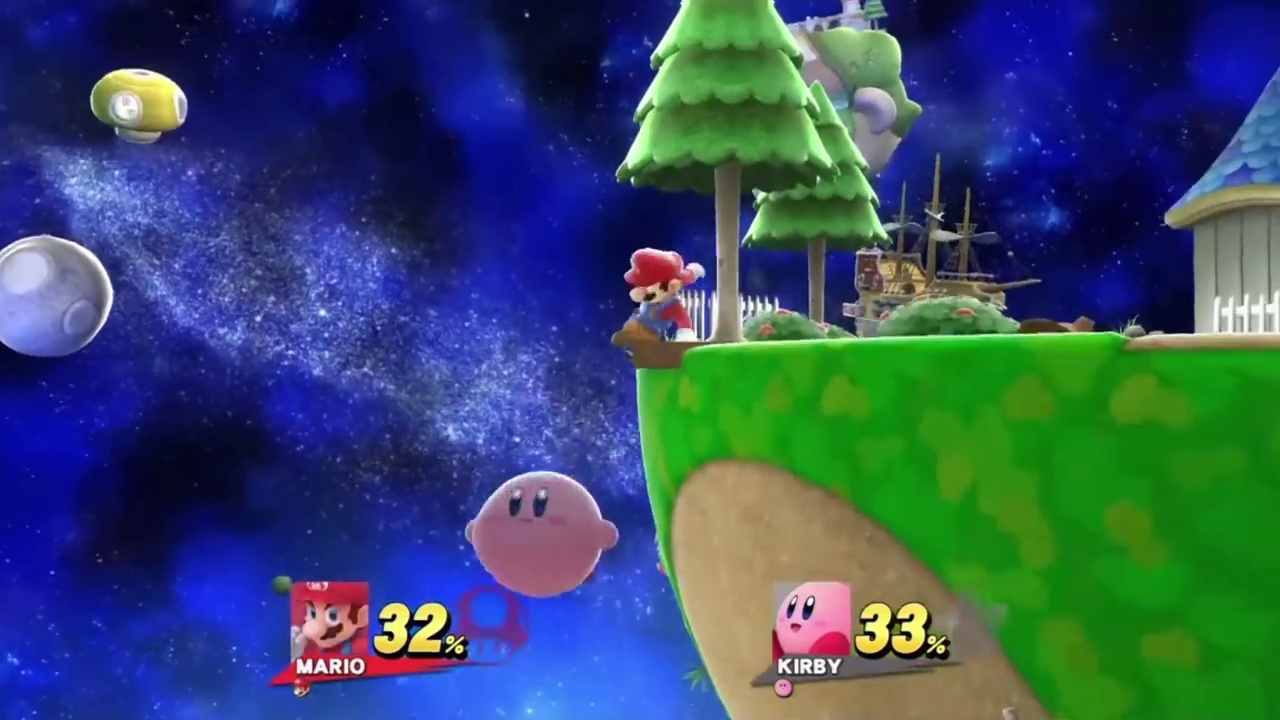Mario: (608, 245, 706, 343)
